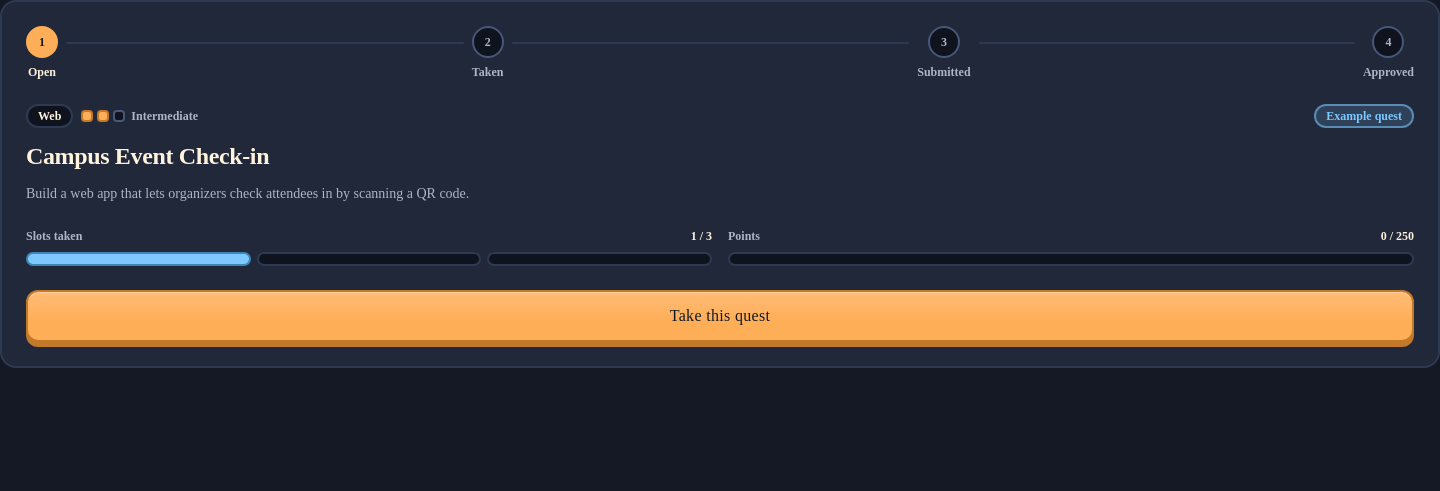
Scenario: QuestDemo › walks the quest from open to approved and can be reset
Click the button "Take this quest". click: (720, 316)
box: [26,290,1414,342]
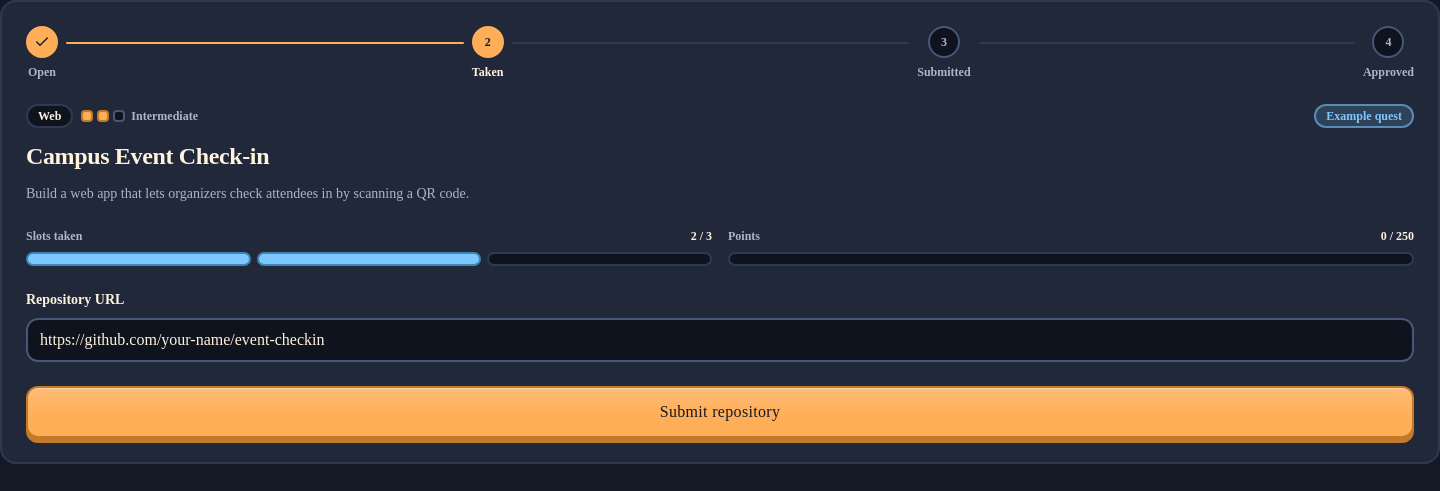
Now the text "2 / 3" is shown, box [691,228,712,244]
Now the field labelled "Repository URL" holds "https://github.com/your-name/event-checkin", box [26,318,1414,362]
Click the button "Submit repository". click: (720, 412)
box: [26,386,1414,438]
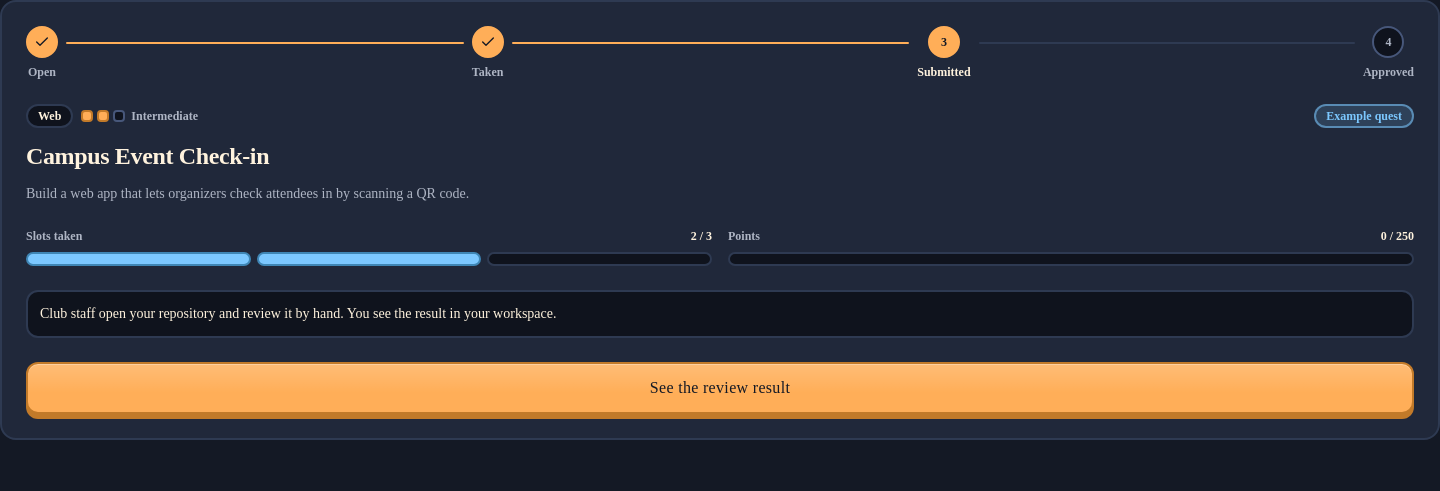
Now the text "review it by hand" is shown, box [40,306,556,321]
Click the button "See the review result". click: (720, 388)
box: [26,362,1414,414]
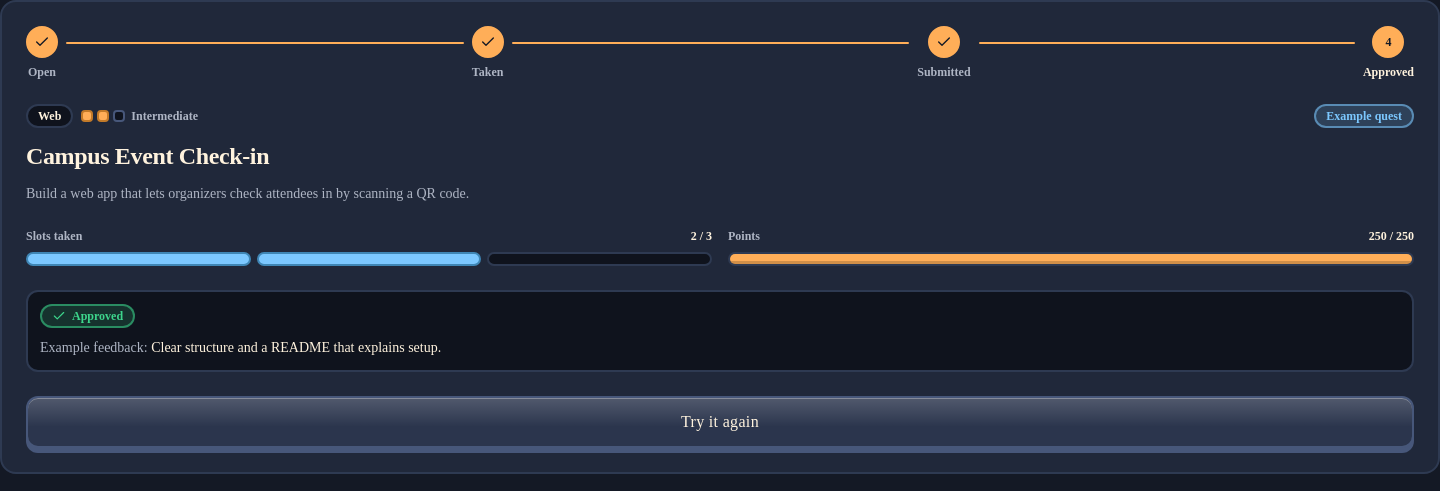
Now the text with test id "demo-points" reads "250 / 250", box [1369,228,1414,244]
Now the text "Example feedback:" is shown, box [40,340,151,355]
Click the button "Try it again". click: (720, 422)
box: [26,396,1414,448]
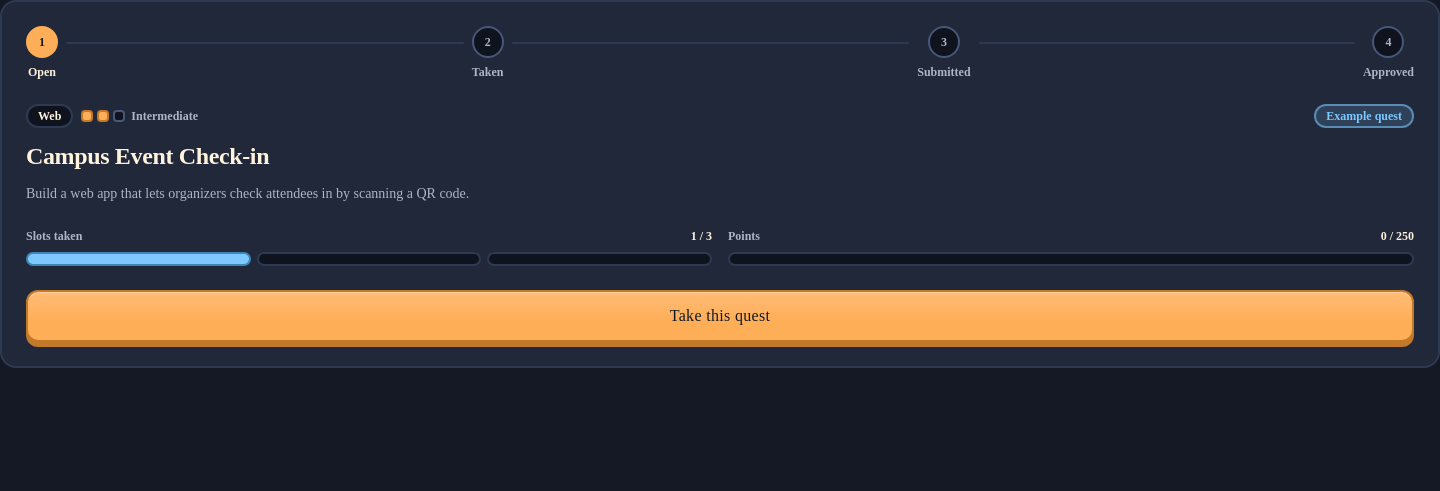
Expected: the text with test id "demo-points" reads "0 / 250", [1381,228,1414,244]
Now the button "Take this quest" is shown, box [26,290,1414,342]
